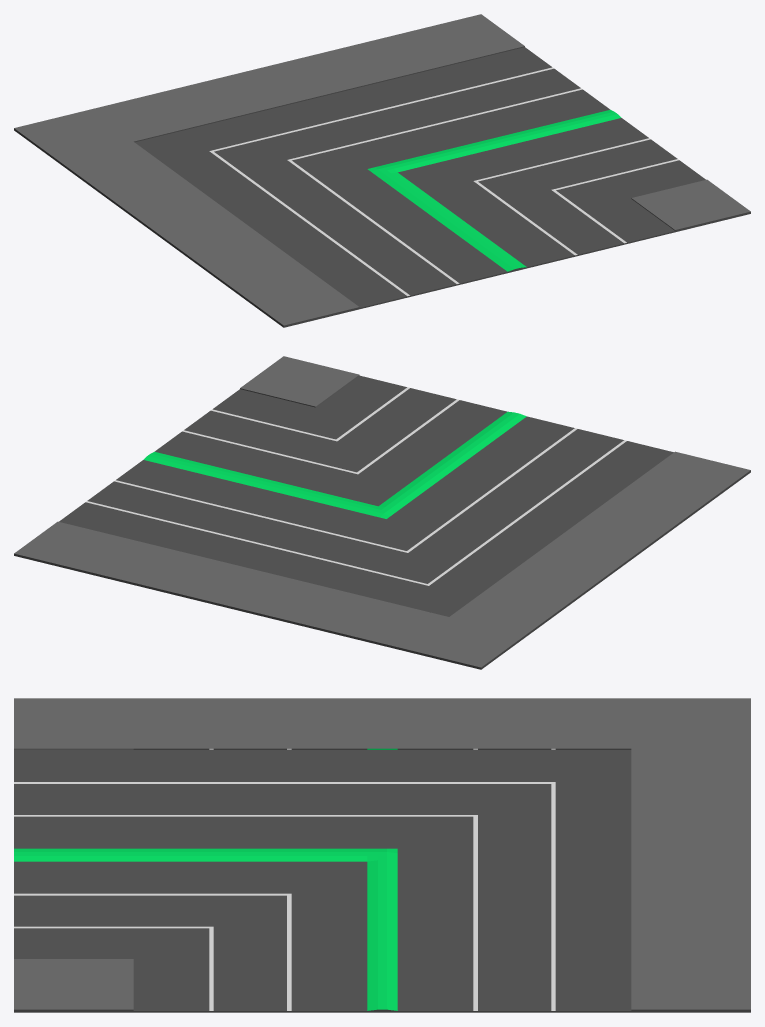
The model's file is turnroad.fbx.
3 renders of one model, top to bottom at view 1: azimuth 30°, elevation 25°; view 2: azimuth 150°, elevation 25°; view 3: azimuth 270°, elevation 25°, orthographic. The views are drawn at different scales.
Visible parts, largest first — view 1: Cube; view 2: Cube; view 3: Cube.
Boxes of the visible parts, x1,y1,x2,y2 form: Cube: (14,14,750,327); Cube: (14,356,750,669); Cube: (14,698,750,1012).
Size of the model in its own units: 4800 by 22.22 by 4800.
